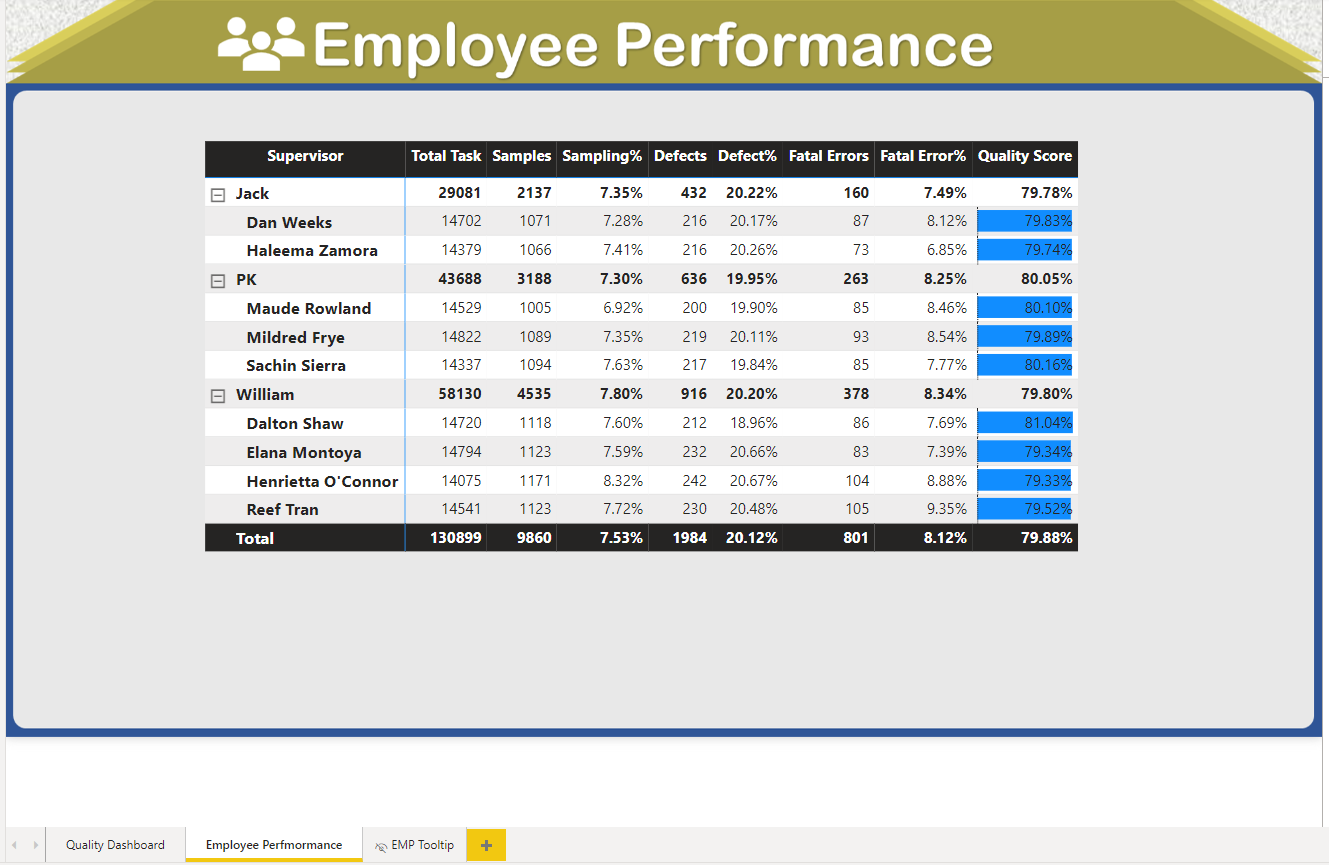

This screenshot's page, from the dashboard's own definition file:
{"tool":"powerbi","page":{"name":"Employee Perfmormance","canvas":[1280,720],"ordinal":1},"visuals":[{"type":"pivotTable","fields":{"Rows":["Emp Master.Supervisor","Emp Master.EMP Name"],"Values":["Quality Data.Total Task","Quality Data.Samples","Quality Data.Sampling%","Quality Data.Defects","Quality Data.Defect%","Quality Data.Fatal Errors","Quality Data.Fatal Error%","Quality Data.Quality Score"]},"box":[188.7,135.2,1091.3,584.6],"z":0}]}

Visuals, with their boxes on the page's 1280x720 design canvas (x1, y1, x2, y2). These are canvas units, not pixel positions in the 1329x865 screenshot, which may show the page scaled, cropped or inside an application window:
pivotTable - Emp Master.Supervisor x Emp Master.EMP Name: bbox=[189, 135, 1280, 720]
